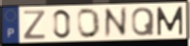0: (52, 9, 71, 40)
M: (156, 5, 185, 37)
N: (103, 6, 129, 40)
O: (76, 7, 102, 40)
Q: (130, 6, 156, 38)
Z: (22, 9, 47, 40)
